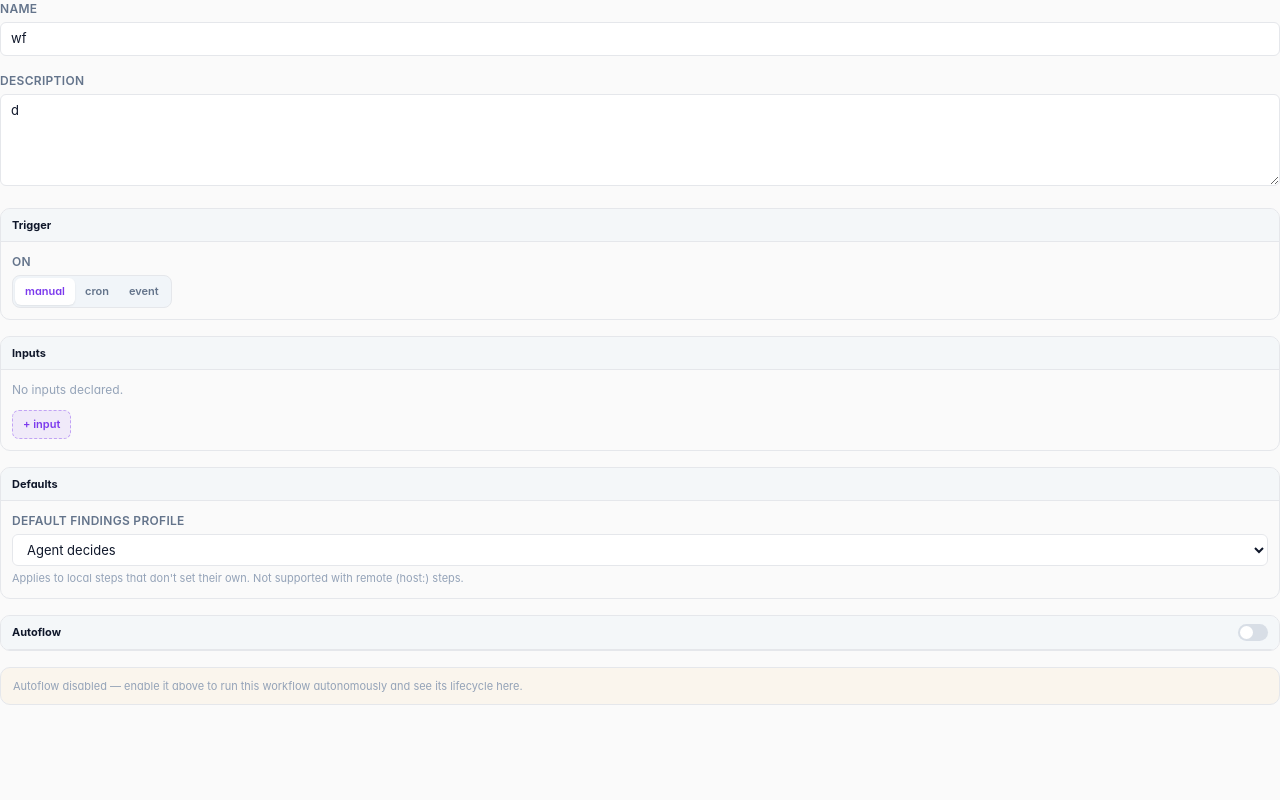
it: WorkflowSettingsForm — next: Trigger card › selecting on=event shows event+filter fields and hides the cron field
Click the button "event".
click(144, 291)  # box 119,278 -> 169,304
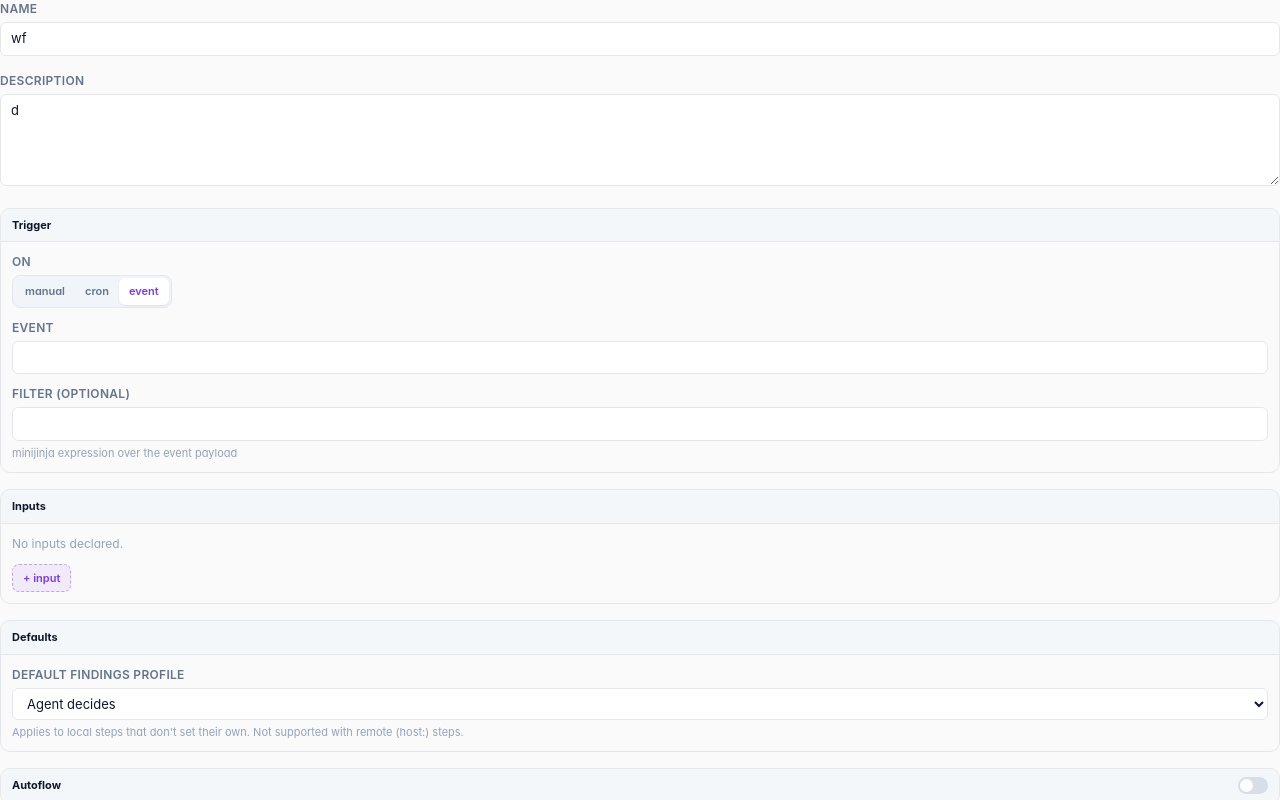
expect the field named "Trigger event" is shown: met, box 12,340 -> 1268,374
expect the field named "Trigger filter" is shown: met, box 12,407 -> 1268,440
